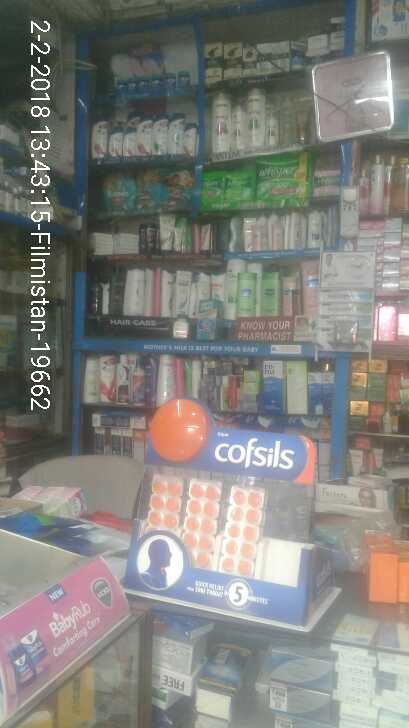vicks: (109, 74, 192, 87)
